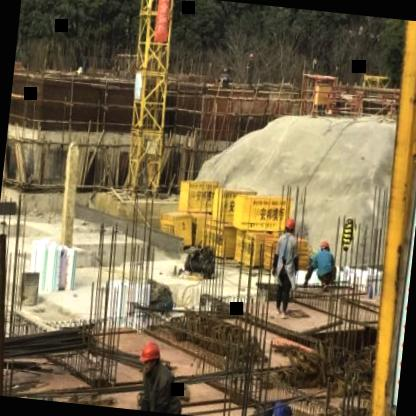helmet: (137, 339, 162, 372), (284, 212, 298, 235), (316, 238, 332, 257)
